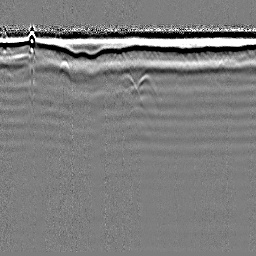cavity: (118, 70, 140, 101)
